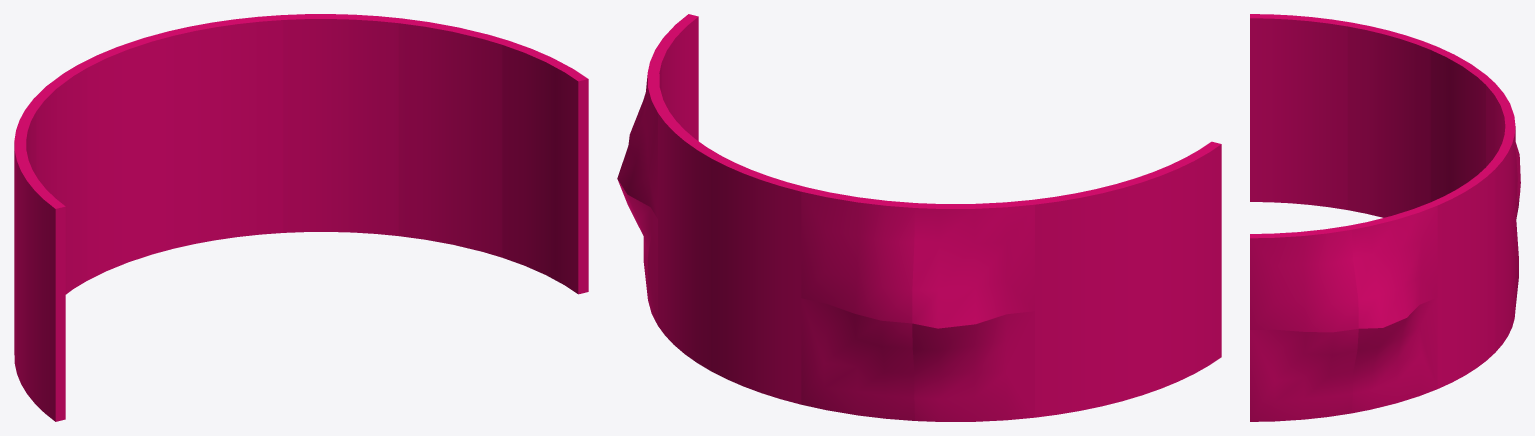
Rendered from Tower_Wall_02.fbx.
3 renders of one model, left to right at view 1: azimuth 30°, elevation 25°; view 2: azimuth 150°, elevation 25°; view 3: azimuth 270°, elevation 25°, orthographic. The views are drawn at different scales.
Visible parts, largest first — view 1: Tower_Wall_02; view 2: Tower_Wall_02; view 3: Tower_Wall_02.
Boxes of the visible parts, box(x1,y1,x2,y2) form: Tower_Wall_02: box(14, 14, 588, 421); Tower_Wall_02: box(617, 14, 1221, 421); Tower_Wall_02: box(1250, 14, 1520, 421).
Size of the model in its own units: 1587 by 600 by 802.
